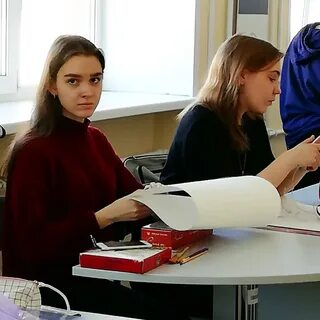students: (1, 33, 153, 316), (160, 32, 316, 197)
